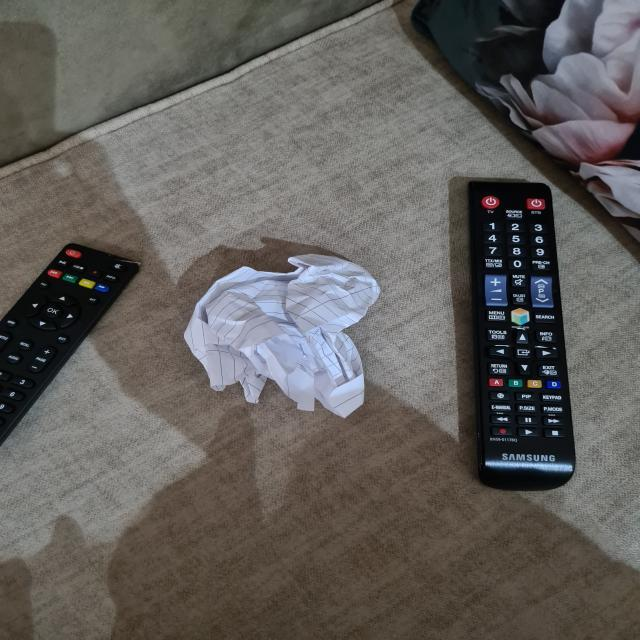Paper: (180, 254, 381, 414)
